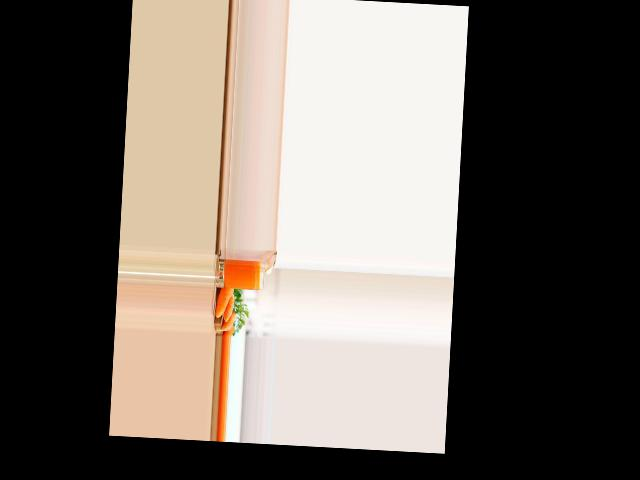carrot: (223, 305, 235, 331)
